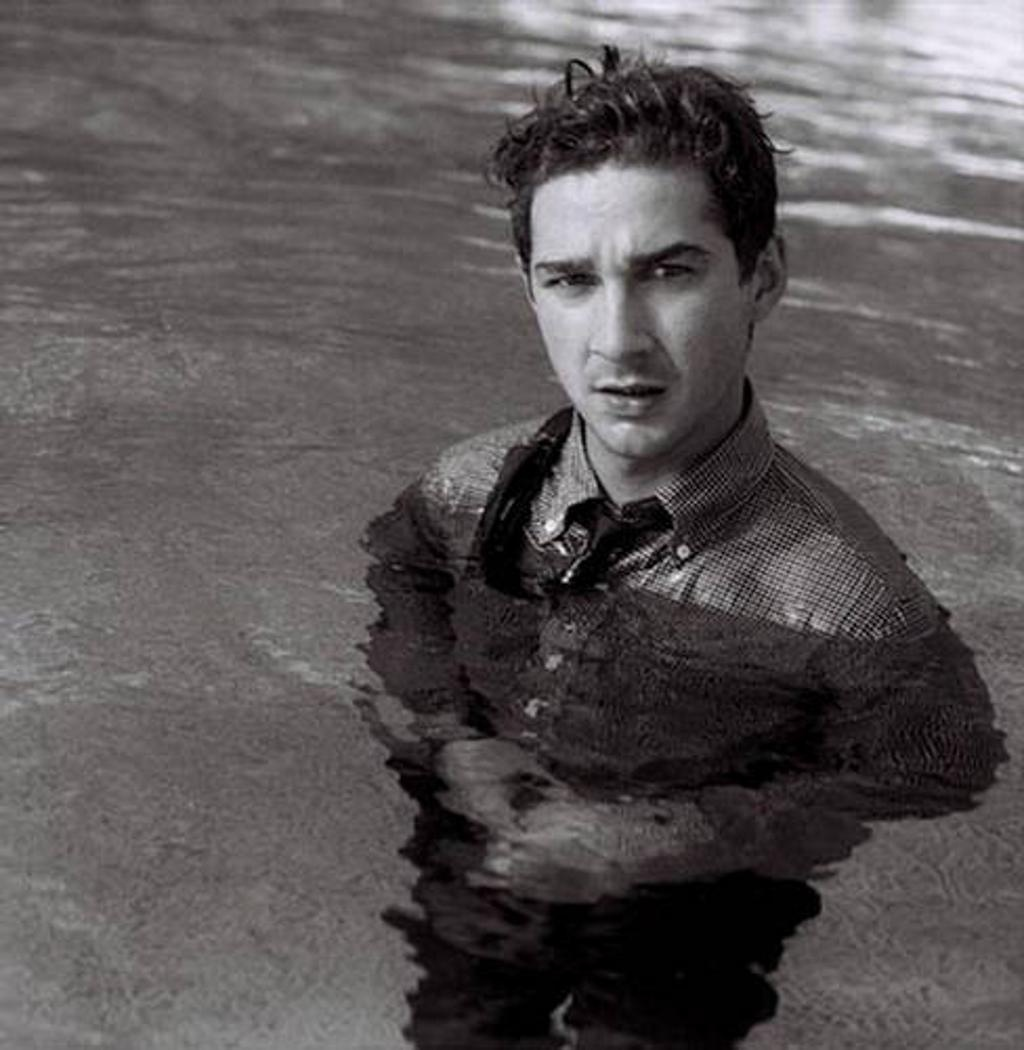human_face: (532, 168, 750, 454)
